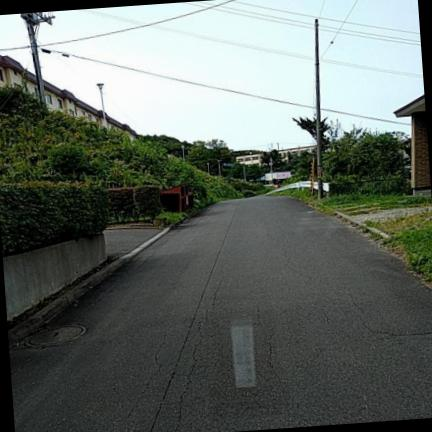Road: (10, 197, 431, 431)
